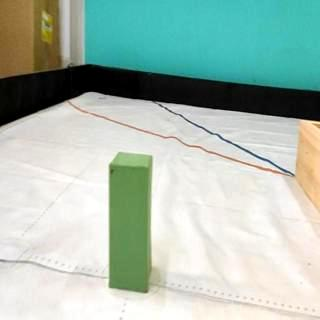greenbox: (109, 152, 153, 294)
